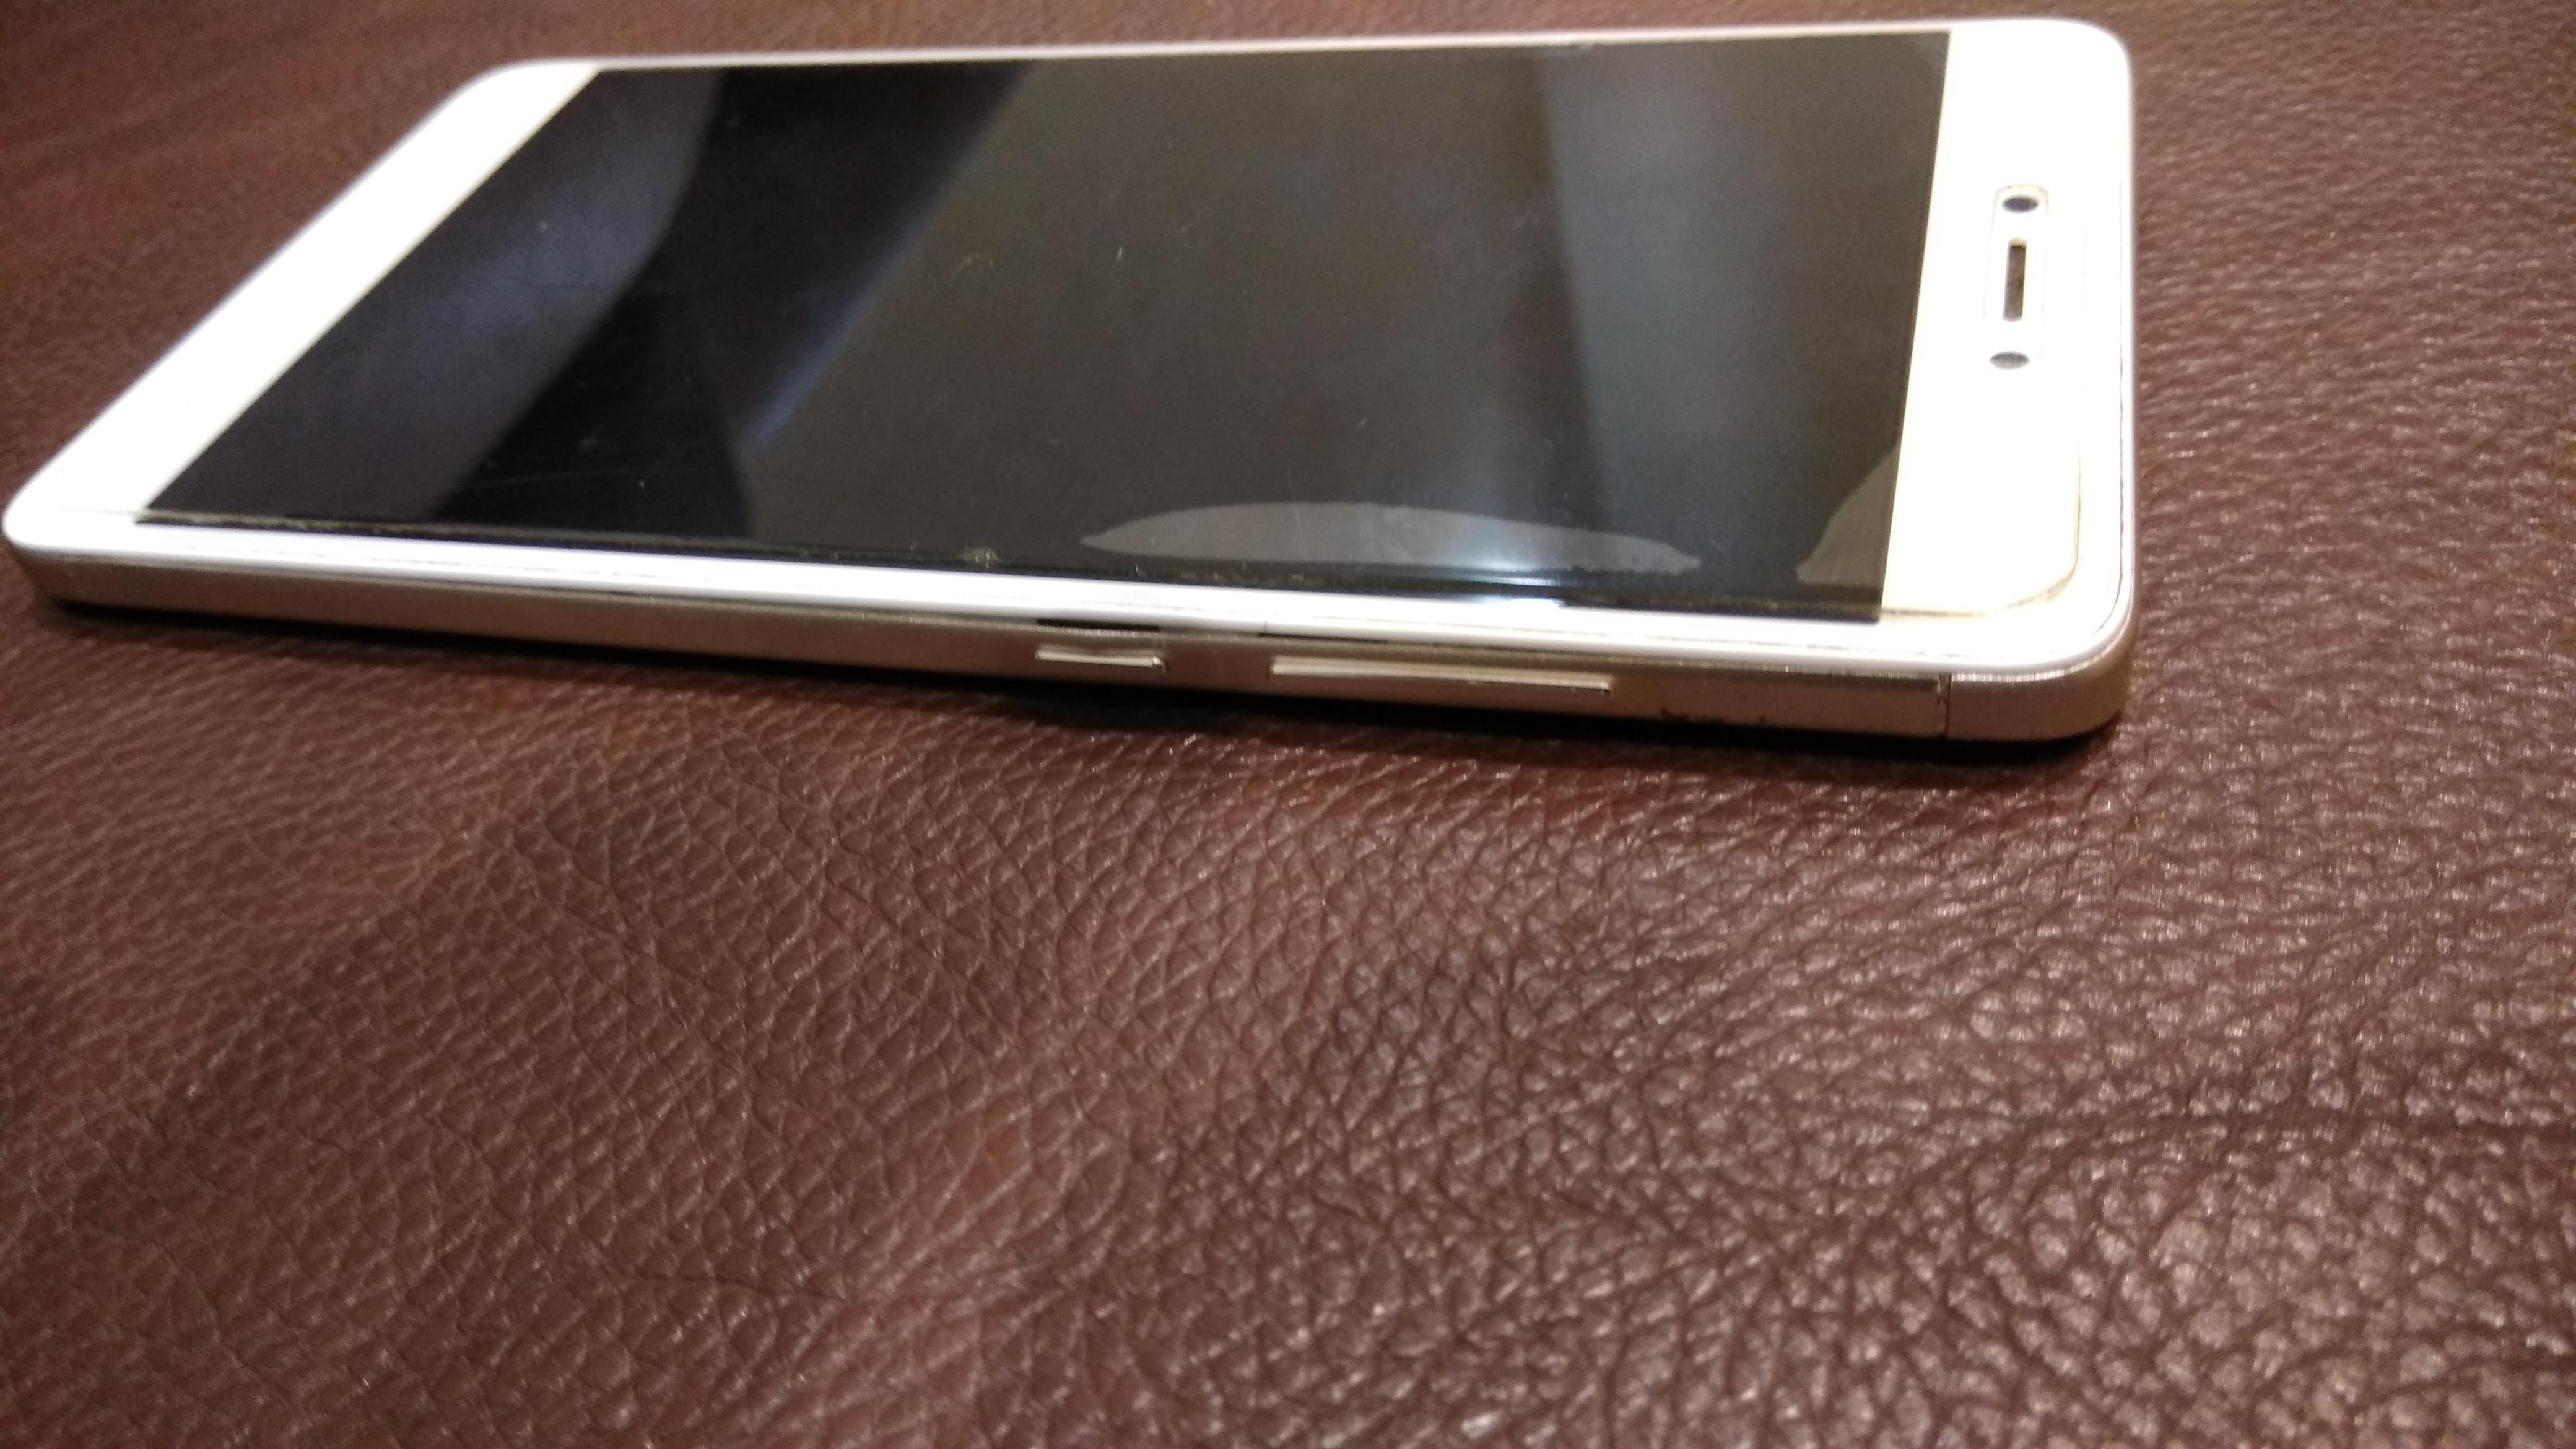Phone: (14, 0, 2224, 809)
